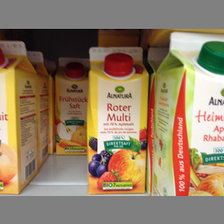juice: (87, 45, 150, 192), (52, 55, 89, 155)
